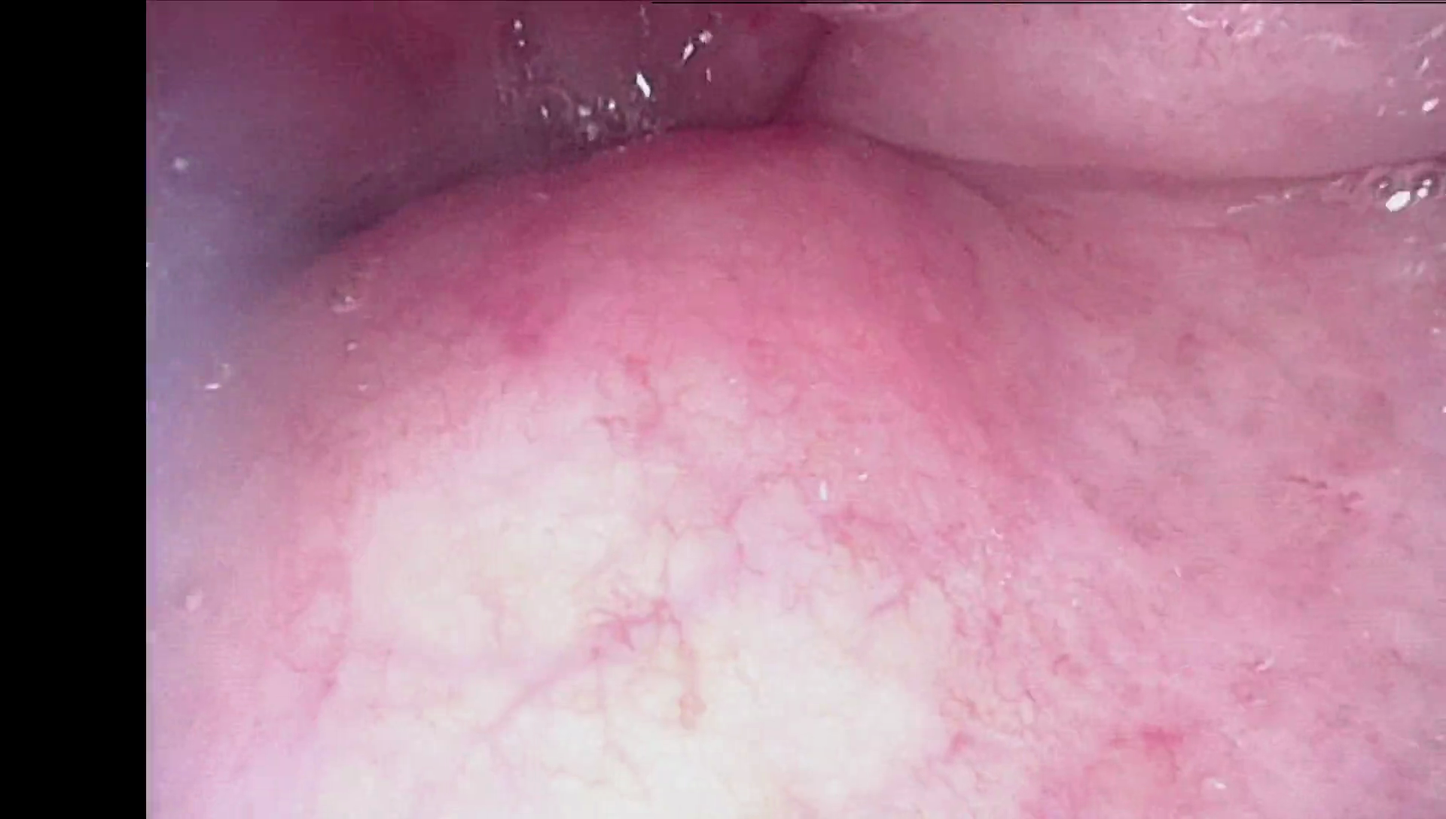close_wall: (316, 281, 1218, 819)
